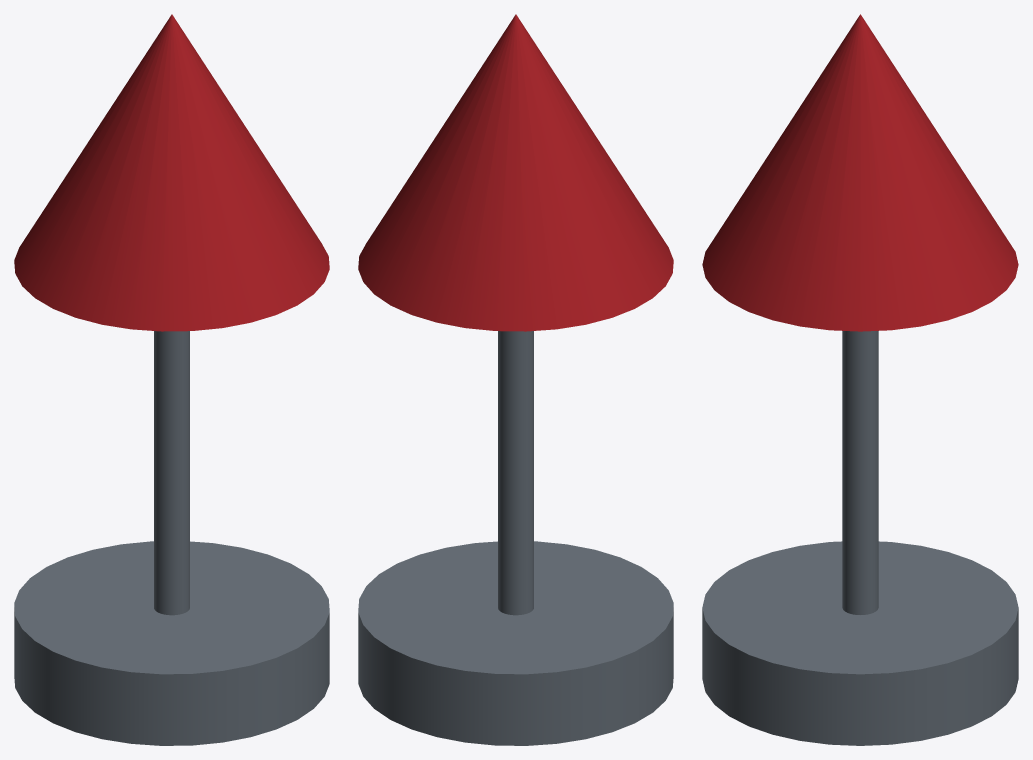
File: lamp.glb
3 views of the same model, side by side, from view 1: azimuth 30°, elevation 25°; view 2: azimuth 150°, elevation 25°; view 3: azimuth 270°, elevation 25° (orthographic).
Visible parts, largest first — view 1: shade, base, stem; view 2: shade, base, stem; view 3: shade, base, stem.
Part boxes in pixels (box(x1,y1,x2,y2)): shade: box(14, 14, 329, 331); base: box(14, 541, 329, 745); stem: box(154, 331, 189, 615); shade: box(358, 14, 673, 331); base: box(358, 541, 673, 745); stem: box(498, 331, 533, 615); shade: box(702, 14, 1018, 331); base: box(702, 541, 1018, 745); stem: box(842, 331, 878, 614).
Bounding box in the file's own units: 0.48 × 1.11 × 0.48.
